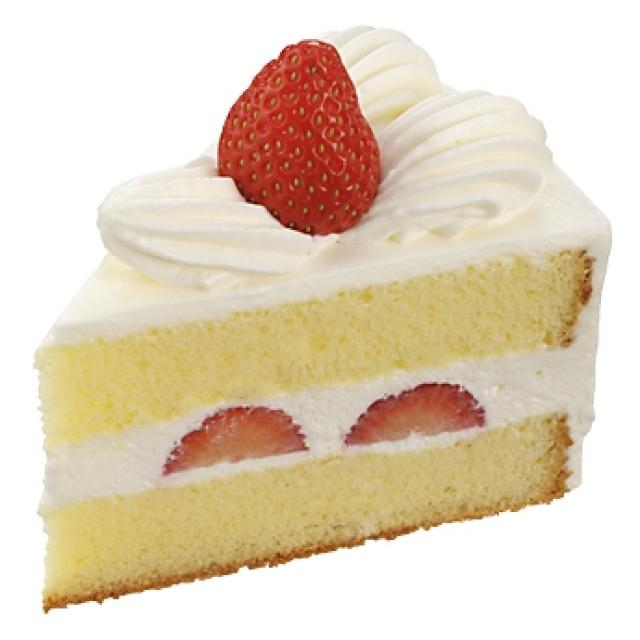蛋糕甜品: (13, 13, 625, 623)
